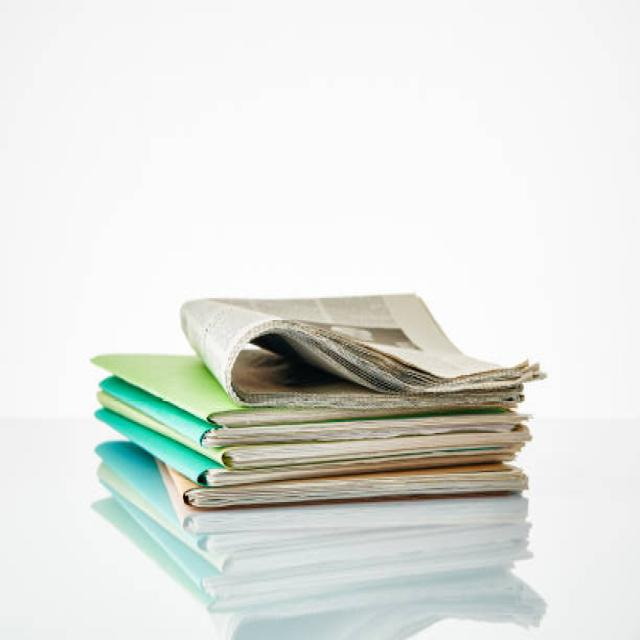electronic: (90, 350, 534, 510), (179, 290, 545, 408), (156, 458, 530, 537)
